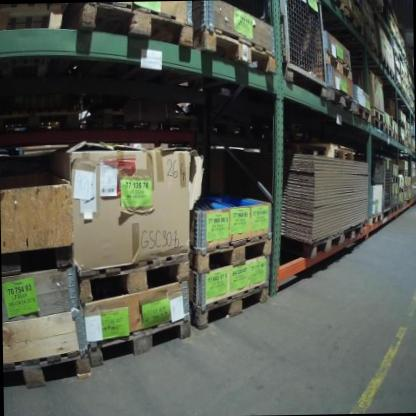pallet: (73, 242, 194, 308), (91, 312, 195, 373), (72, 1, 190, 48), (197, 20, 279, 80), (5, 342, 91, 392), (192, 227, 275, 276), (192, 281, 271, 331), (3, 241, 79, 283), (281, 227, 346, 263), (283, 138, 360, 166), (1, 111, 82, 136), (0, 3, 60, 30), (320, 47, 354, 80), (320, 82, 353, 113), (343, 219, 368, 248), (311, 0, 346, 17), (343, 7, 362, 38), (362, 32, 379, 62), (362, 12, 379, 37), (367, 101, 386, 121), (365, 210, 384, 229), (355, 99, 369, 124), (367, 117, 385, 134), (379, 54, 389, 75), (383, 124, 392, 142), (394, 75, 402, 95), (387, 204, 398, 216), (389, 173, 400, 184), (389, 66, 395, 84), (397, 134, 405, 147), (391, 131, 398, 144), (397, 201, 404, 211), (397, 185, 404, 193)
stillage: (250, 0, 329, 105), (362, 152, 393, 217)
